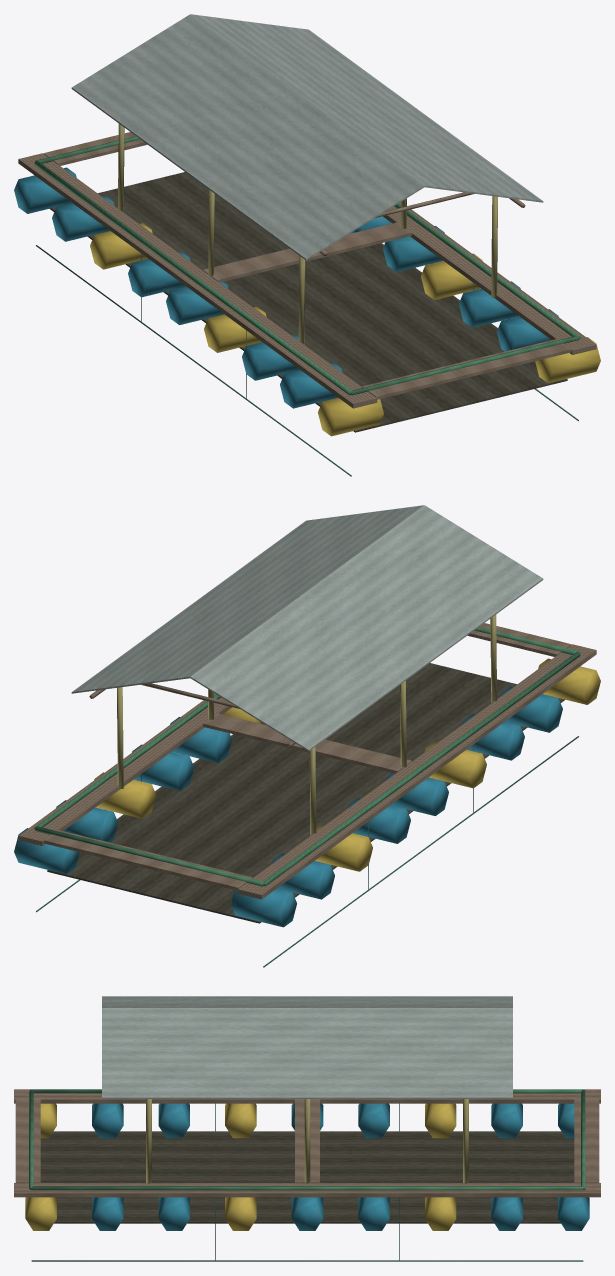
File: bung-raft-3-grey-mid.glb
3 views of the same model, one above another, from view 1: azimuth 30°, elevation 25°; view 2: azimuth 150°, elevation 25°; view 3: azimuth 270°, elevation 25° (orthographic). The views are drawn at different scales.
Parts seen in each view (by area): view 1: bung-raft-3-grey-mid; view 2: bung-raft-3-grey-mid; view 3: bung-raft-3-grey-mid.
Boxes of the visible parts, x1,y1,x2,y2 form: bung-raft-3-grey-mid: (14,14,600,476); bung-raft-3-grey-mid: (14,505,600,967); bung-raft-3-grey-mid: (14,996,600,1261).
Size of the model in its own units: 4.94 by 4.17 by 10.8.
Materials: 1 (1 with a texture image).
